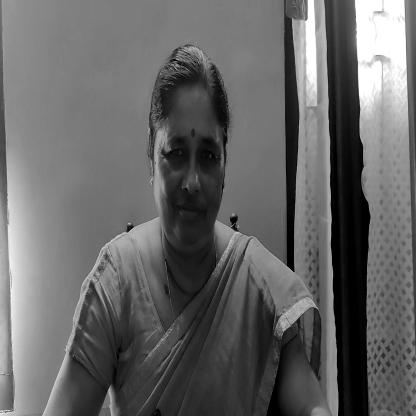Normal: (148, 40, 228, 262)
